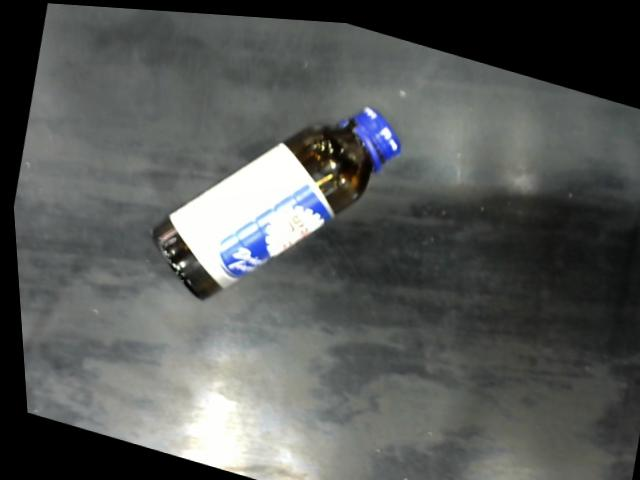glass: (149, 95, 409, 301)
